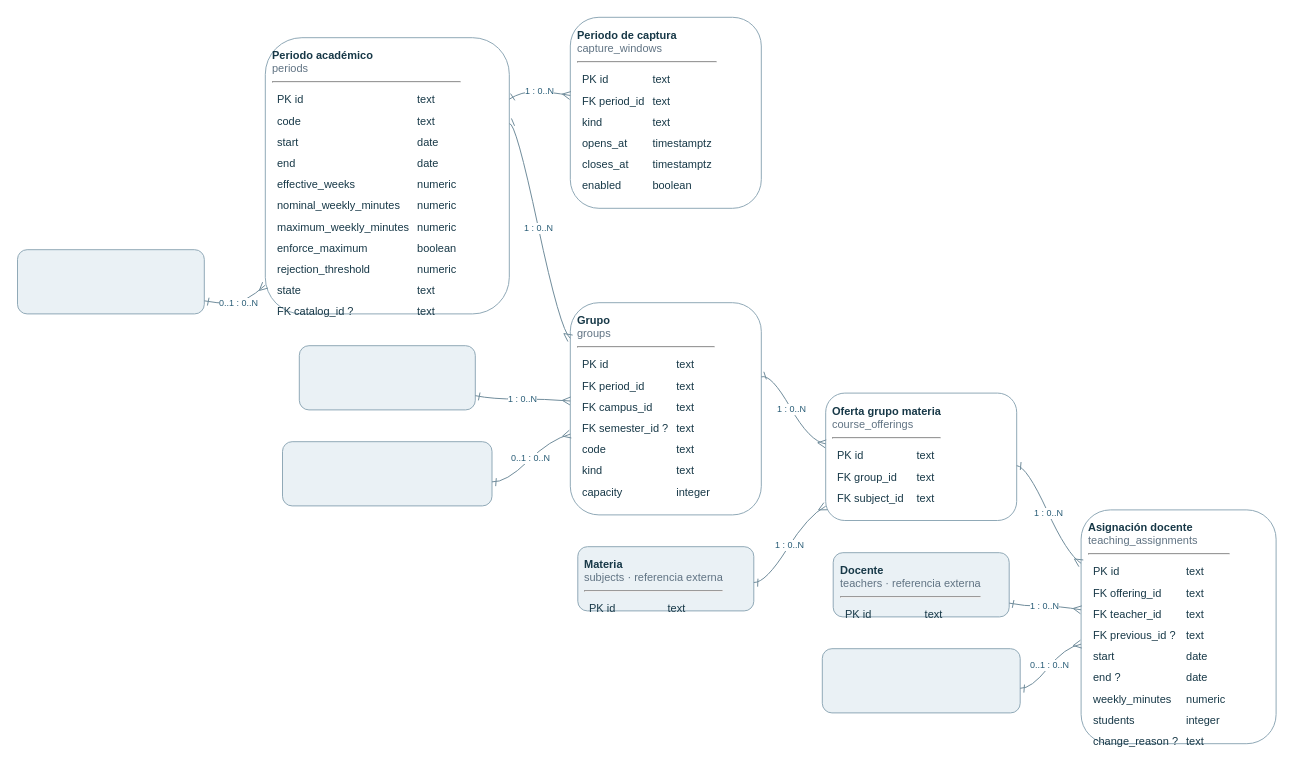
This 1294x772 diagram has some shape labels left out. The shapes that lost their labels are listed below. From the top down, each one's centre as x and y in pixels, then its label:
At point (110, 281): "Versión de catálogo catalog_versions · referencia externa PK id text".
At point (386, 377): "Campus campuses · referencia externa PK id text".
At point (387, 473): "Semestre del plan curriculum_semesters · referencia externa PK id text".
At point (920, 680): "Asignación docente teaching_assignments · referencia externa PK id text".
